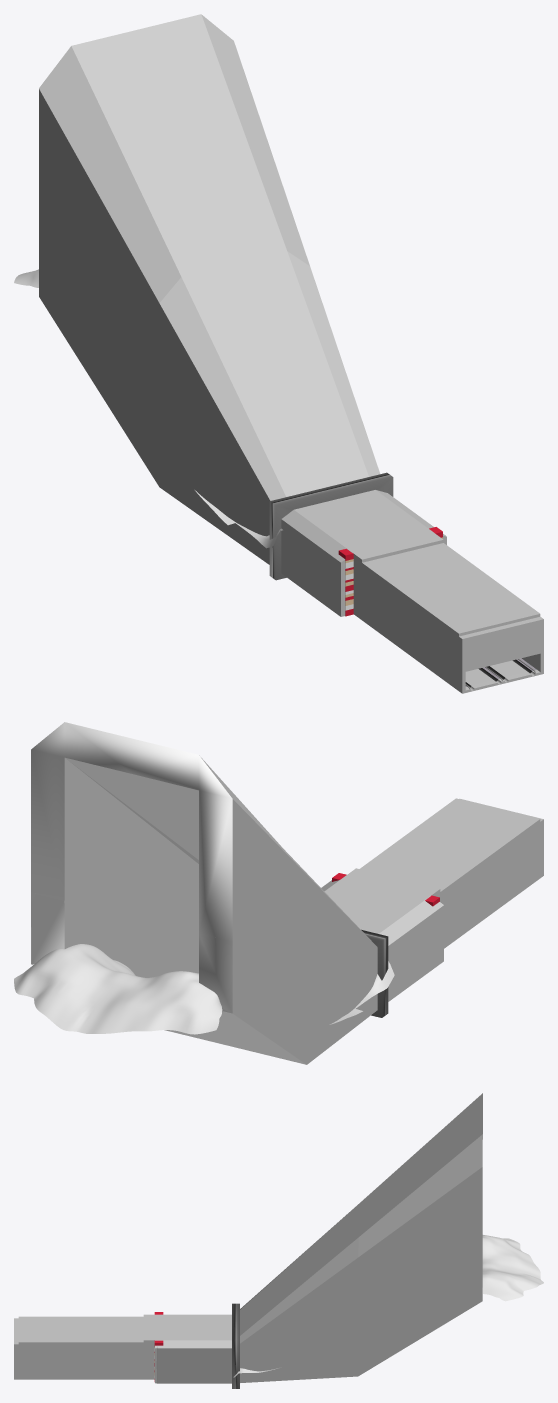
File: bowling_alley.fbx
The picture shows the model from 3 angles, top to bottom: view 1: azimuth 30°, elevation 25°; view 2: azimuth 150°, elevation 25°; view 3: azimuth 270°, elevation 25°; orthographic projection. The views are drawn at different scales.
Parts seen in each view (by area): view 1: bowlingalley, bowling_entrance; view 2: bowlingalley, sand_templejonction, bowling_entrance, bowlingentrysand; view 3: bowlingalley, sand_templejonction, bowling_entrance.
Boxes of the visible parts, x1,y1,x2,y2 form: bowlingalley: (39,14,543,693); bowling_entrance: (269,472,393,580); bowlingalley: (31,722,543,1064); sand_templejonction: (14,944,222,1034); bowling_entrance: (361,929,388,1017); bowlingentrysand: (329,961,394,1024); bowlingalley: (14,1093,482,1383); sand_templejonction: (482,1235,543,1301); bowling_entrance: (232,1303,239,1388).
Bounding box in the file's own units: 124 × 234 × 441.
